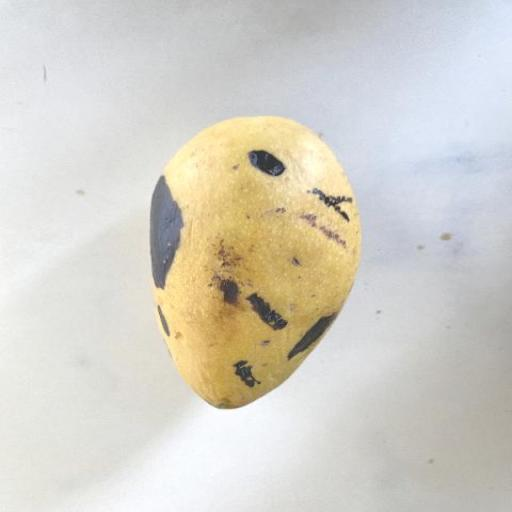mango-overripe: (107, 83, 389, 433)
